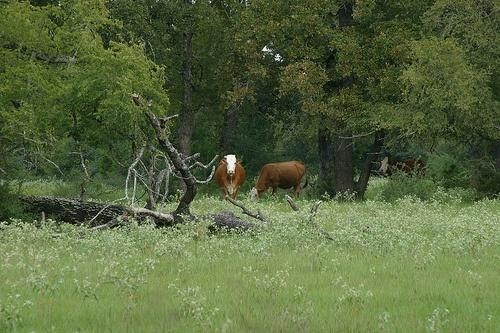cow: (250, 160, 310, 202), (214, 153, 250, 199)
